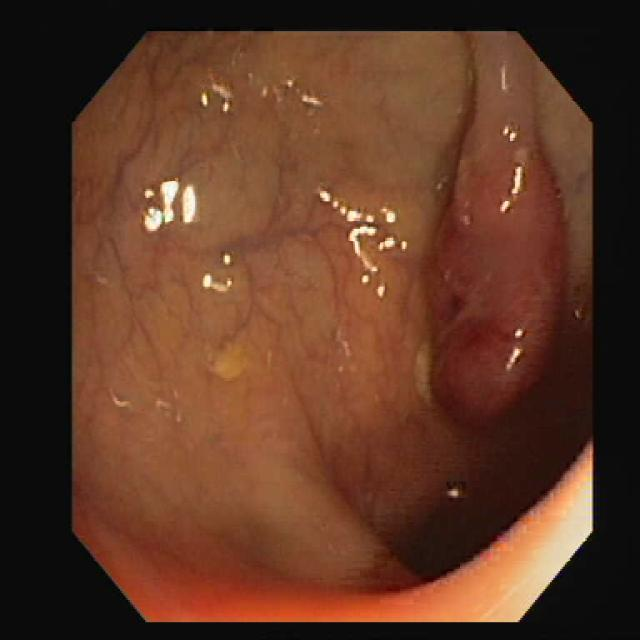tumor: (432, 113, 562, 411)
